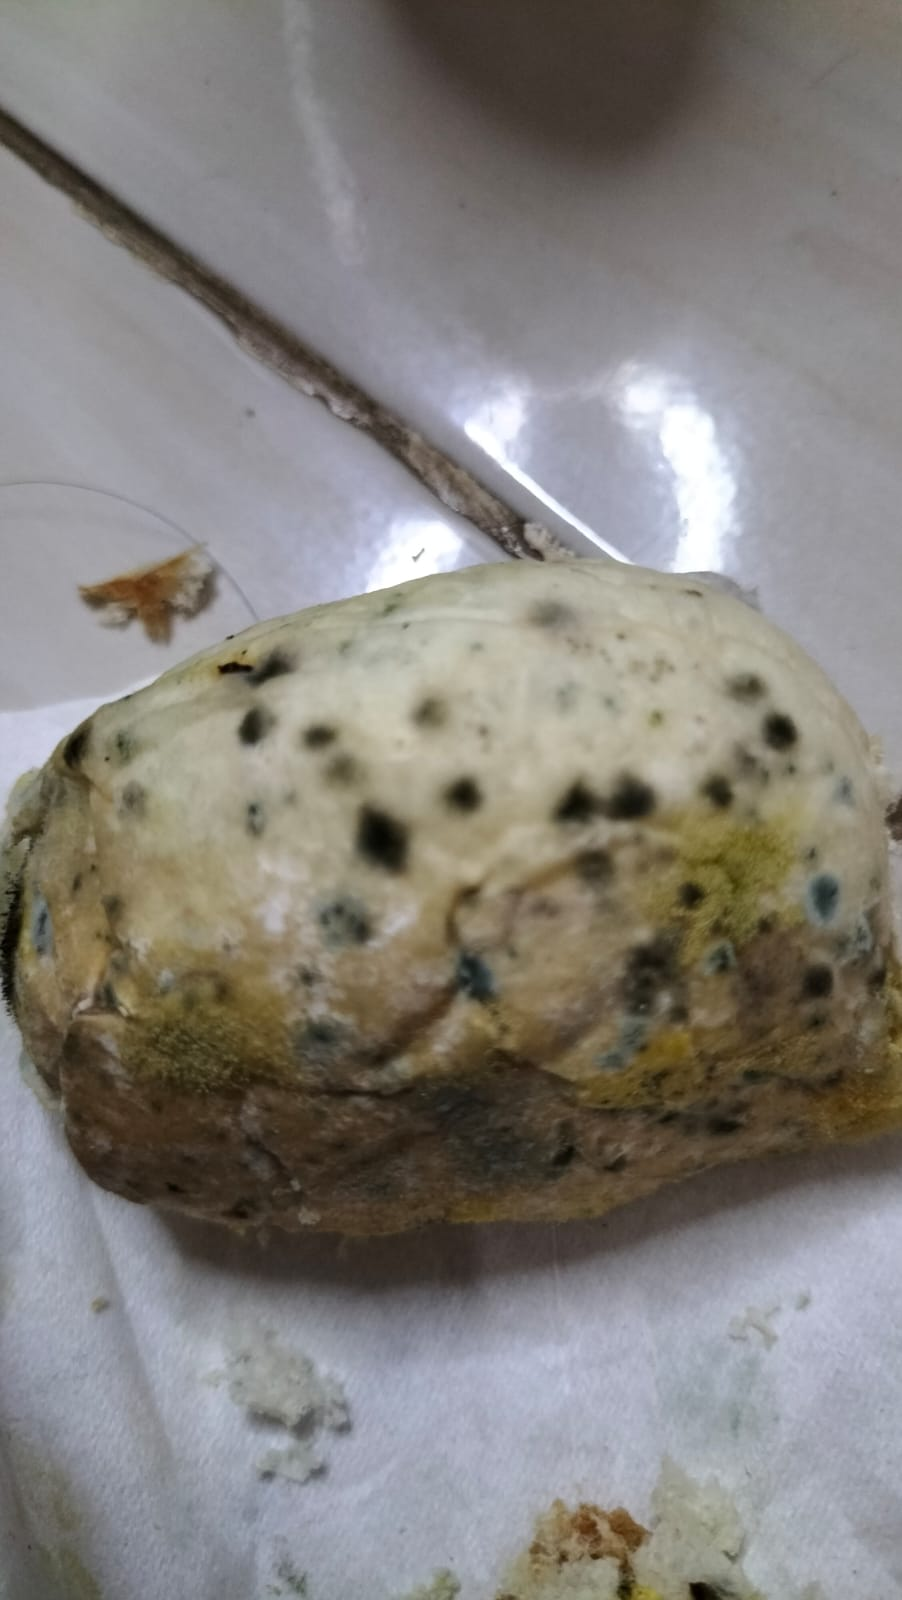mold_bread: (115, 963, 302, 1119), (2, 773, 51, 1040), (542, 764, 666, 824), (194, 643, 307, 692), (442, 931, 514, 1007), (345, 811, 426, 878), (593, 1010, 658, 1079), (112, 726, 158, 820), (312, 895, 380, 948), (569, 835, 624, 888), (435, 768, 493, 816), (800, 868, 846, 925), (51, 727, 100, 776), (407, 687, 454, 735), (318, 755, 368, 798), (230, 702, 272, 749), (797, 957, 836, 1008), (722, 667, 773, 705), (700, 937, 747, 978), (701, 769, 742, 815), (759, 711, 803, 753), (236, 799, 272, 846), (296, 718, 339, 753), (672, 873, 704, 919)
